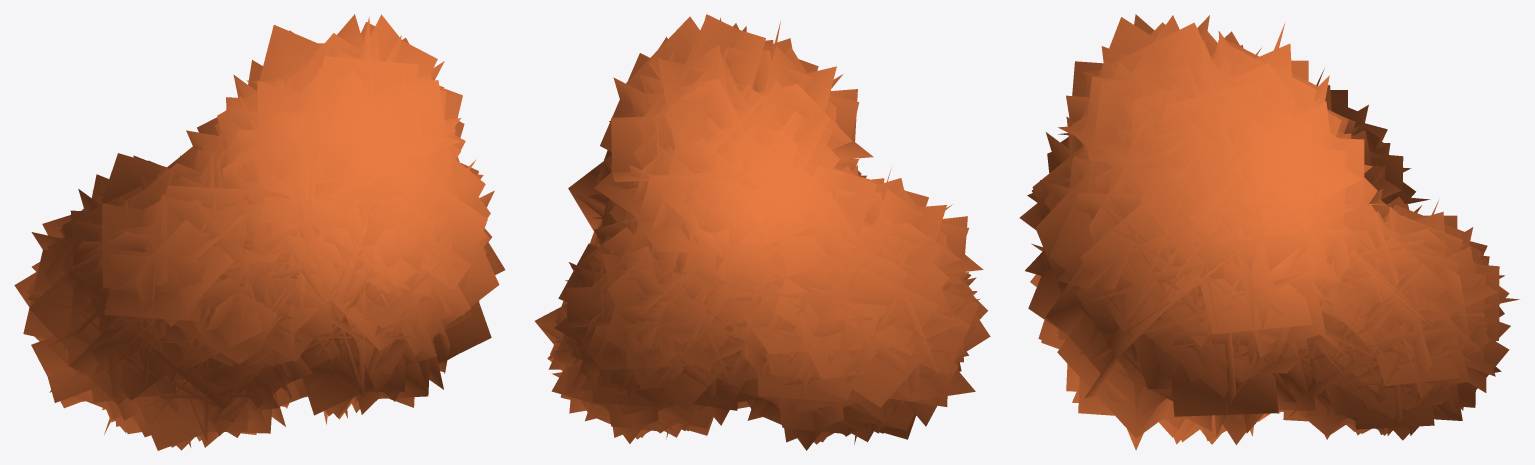
Rendered from SM_Bush_03.fbx.
The picture shows the model from 3 angles, left to right: view 1: azimuth 30°, elevation 25°; view 2: azimuth 150°, elevation 25°; view 3: azimuth 270°, elevation 25°; orthographic projection. The views are drawn at different scales.
Visible parts, largest first — view 1: SM_Bush_03_LOD0; view 2: SM_Bush_03_LOD0; view 3: SM_Bush_03_LOD0.
Boxes of the visible parts, x1,y1,x2,y2 form: SM_Bush_03_LOD0: (14,14,505,450); SM_Bush_03_LOD0: (535,14,990,450); SM_Bush_03_LOD0: (1019,14,1519,450).
Bounding box in the file's own units: 399 × 358 × 368.
